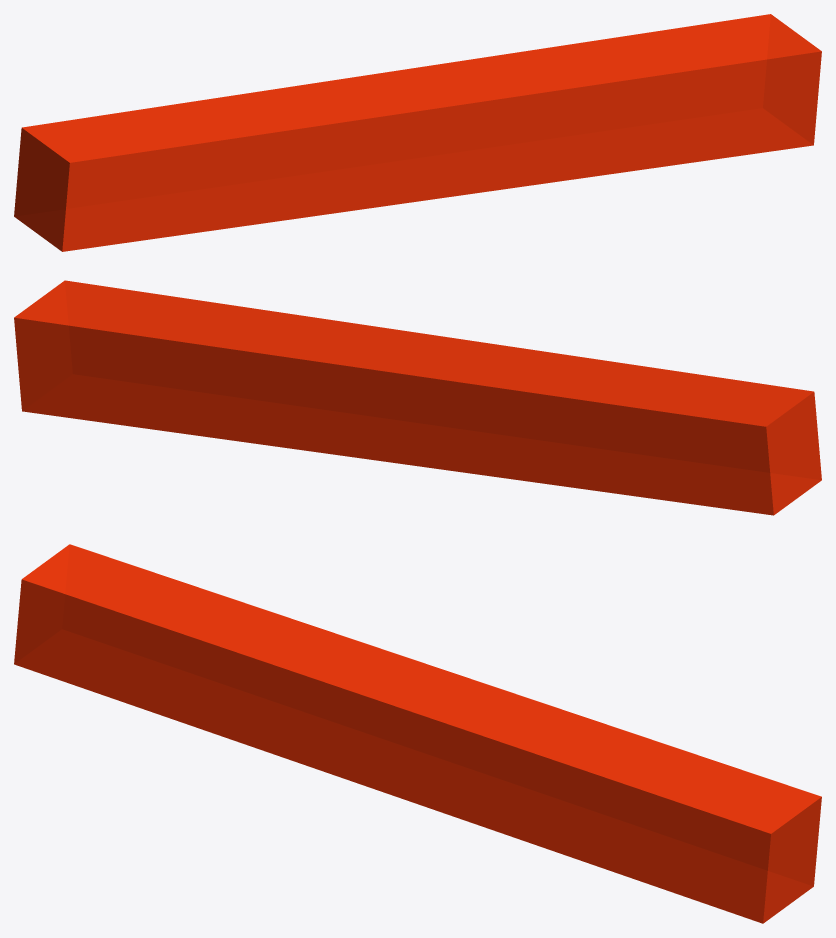
Rendered from Event_420107950_EErechit_89.fbx.
3 views of the same model, one above another, from view 1: azimuth 30°, elevation 25°; view 2: azimuth 150°, elevation 25°; view 3: azimuth 330°, elevation 25° (orthographic).
Parts seen in each view (by area): view 1: Model; view 2: Model; view 3: Model.
Part boxes in pixels (x1,y1,x2,y2): Model: (14,14,821,251); Model: (14,280,821,515); Model: (14,544,821,923).
Bounding box in the file's own units: 0.6589 × 0.136 × 0.0767.
